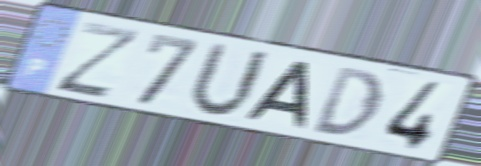4: (381, 78, 445, 154)
7: (135, 31, 204, 108)
A: (242, 58, 311, 131)
D: (310, 64, 386, 139)
U: (184, 38, 274, 120)
Z: (51, 19, 146, 102)
